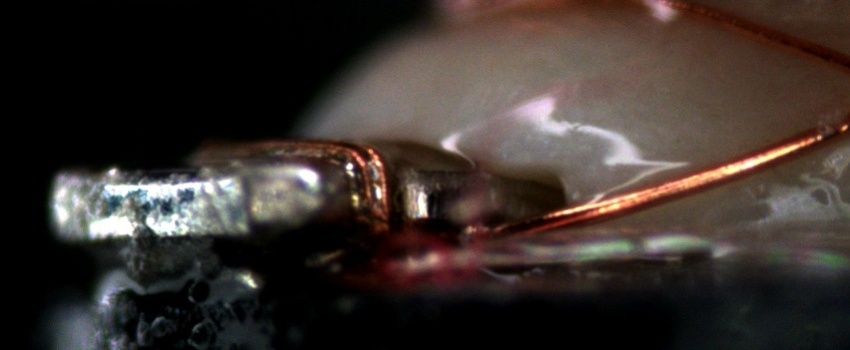TE: (284, 136, 392, 236)
